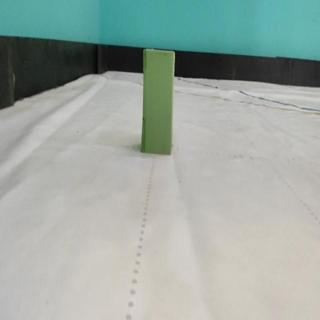greenbox: (140, 47, 178, 157)
